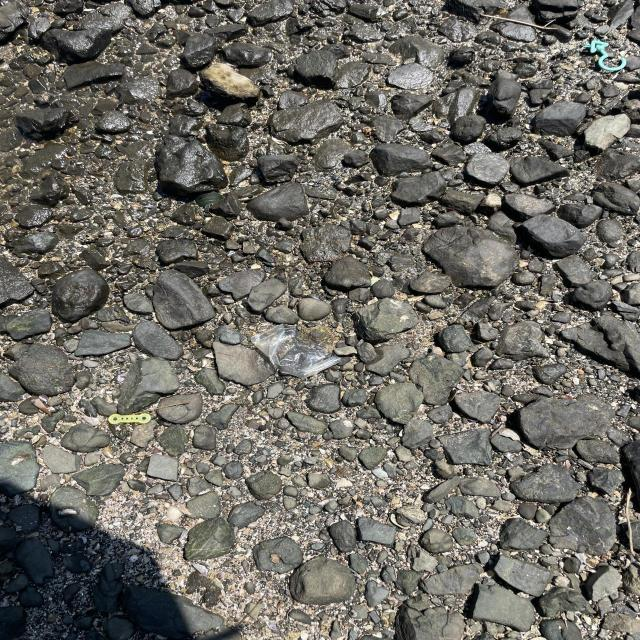plastic_waste: (250, 325, 344, 379)
